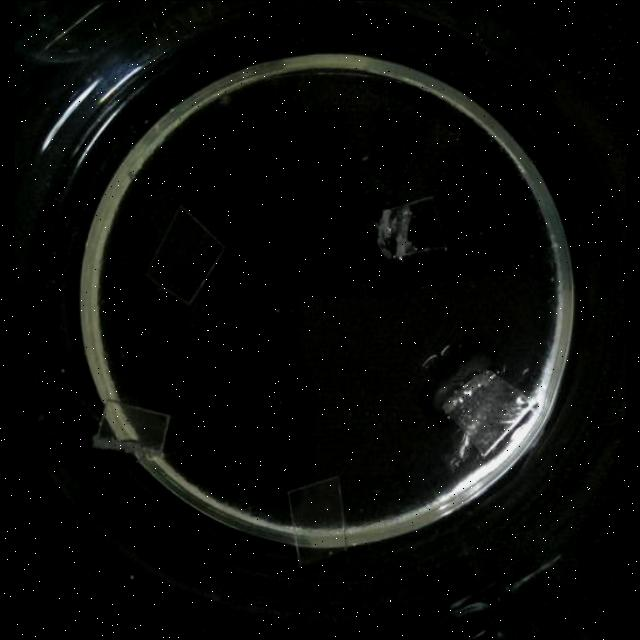Film: (443, 366, 537, 460), (145, 202, 225, 306), (284, 471, 350, 567), (374, 192, 448, 262), (96, 402, 172, 456)
